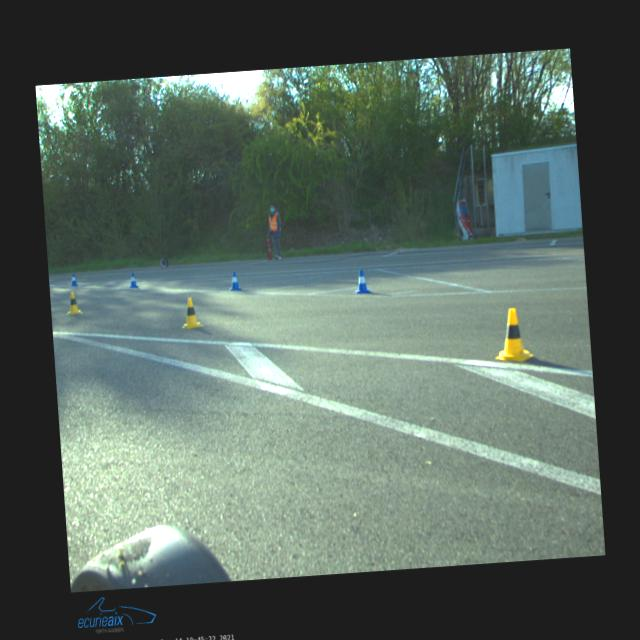blue_cone: (354, 268, 371, 294), (228, 271, 240, 290), (128, 272, 138, 288), (70, 273, 78, 285)
yellow_cone: (492, 306, 533, 362), (180, 296, 202, 328), (64, 290, 82, 314)
